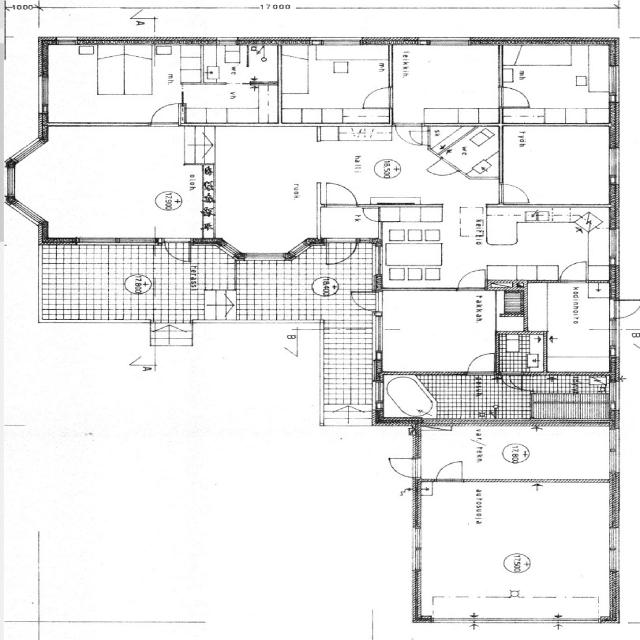door: (318, 183, 374, 241), (318, 180, 362, 210), (324, 238, 359, 267), (463, 350, 499, 376), (146, 101, 183, 126), (432, 458, 470, 482), (359, 84, 395, 109), (498, 181, 533, 205), (498, 84, 533, 108), (161, 238, 193, 264), (454, 266, 488, 290), (395, 124, 428, 148), (386, 456, 418, 478), (558, 260, 590, 282), (352, 292, 381, 314), (544, 334, 574, 354), (611, 299, 640, 319), (360, 206, 383, 223)
window: (604, 524, 625, 574), (407, 525, 427, 573), (605, 428, 624, 477), (604, 226, 623, 266), (605, 144, 624, 182), (12, 204, 43, 226), (311, 36, 365, 48), (2, 165, 20, 199), (425, 36, 472, 49), (36, 75, 52, 112), (606, 62, 622, 98), (312, 204, 328, 240), (606, 318, 622, 352), (430, 616, 481, 626), (214, 37, 240, 46), (56, 37, 79, 46)
zone: (414, 480, 617, 620), (15, 124, 196, 242), (204, 124, 319, 253), (35, 242, 194, 324), (44, 44, 172, 125), (377, 289, 500, 373), (499, 124, 616, 207), (391, 44, 503, 125), (499, 44, 615, 122), (276, 44, 391, 122), (482, 208, 599, 281), (534, 280, 616, 370), (383, 373, 525, 421), (525, 374, 614, 424), (182, 82, 278, 124), (428, 126, 499, 177), (196, 43, 280, 83), (319, 206, 380, 242), (496, 331, 547, 374)
